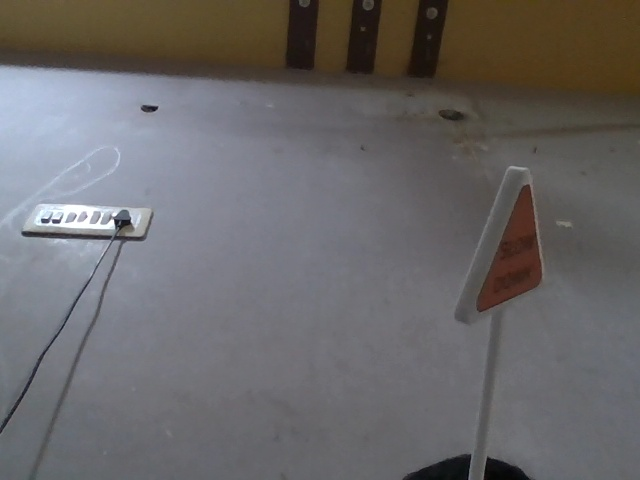slowdown: (388, 184, 568, 319)
